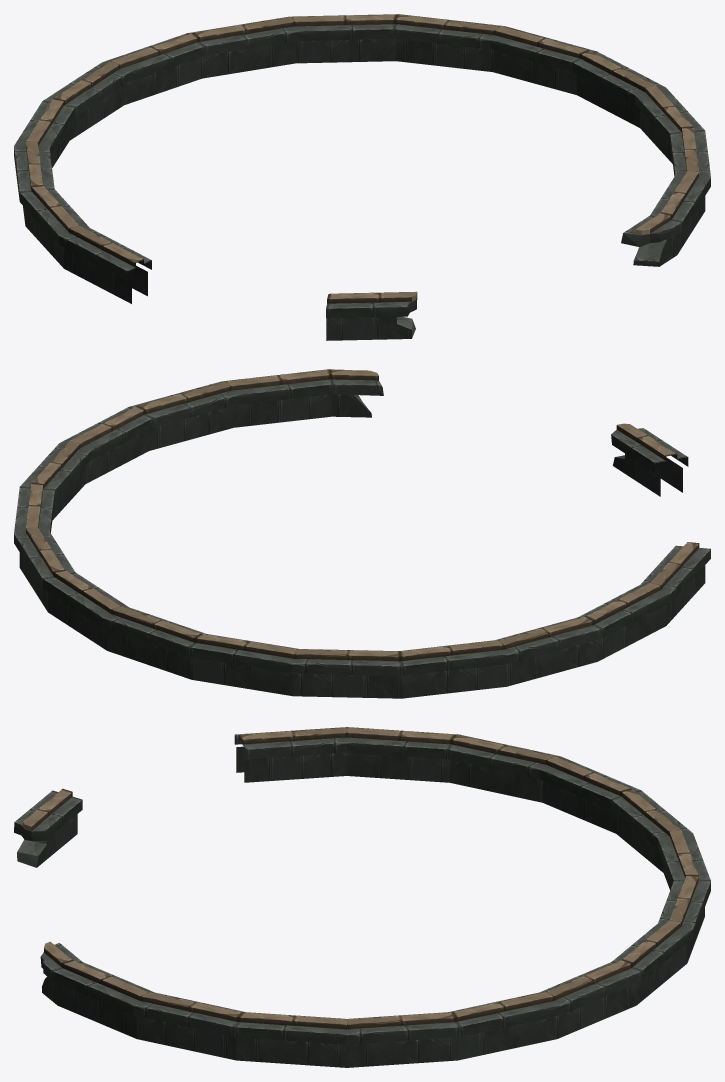
File: yw_newshanlin_zzpingtaifb_001.FBX
The picture shows the model from 3 angles, top to bottom: view 1: azimuth 30°, elevation 25°; view 2: azimuth 150°, elevation 25°; view 3: azimuth 270°, elevation 25°; orthographic projection. The views are drawn at different scales.
Parts seen in each view (by area): view 1: yw_newshanlin_zzpingtaifb_001; view 2: yw_newshanlin_zzpingtaifb_001; view 3: yw_newshanlin_zzpingtaifb_001.
Part boxes in pixels (x1=…): yw_newshanlin_zzpingtaifb_001: x1=14, y1=14, x2=710, y2=340; yw_newshanlin_zzpingtaifb_001: x1=14, y1=369, x2=710, y2=698; yw_newshanlin_zzpingtaifb_001: x1=14, y1=727, x2=710, y2=1067.
Bounding box in the file's own units: 5.22 × 5 × 0.3222.
